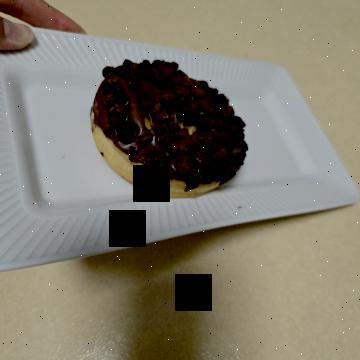doughnut: (53, 105, 223, 280)
